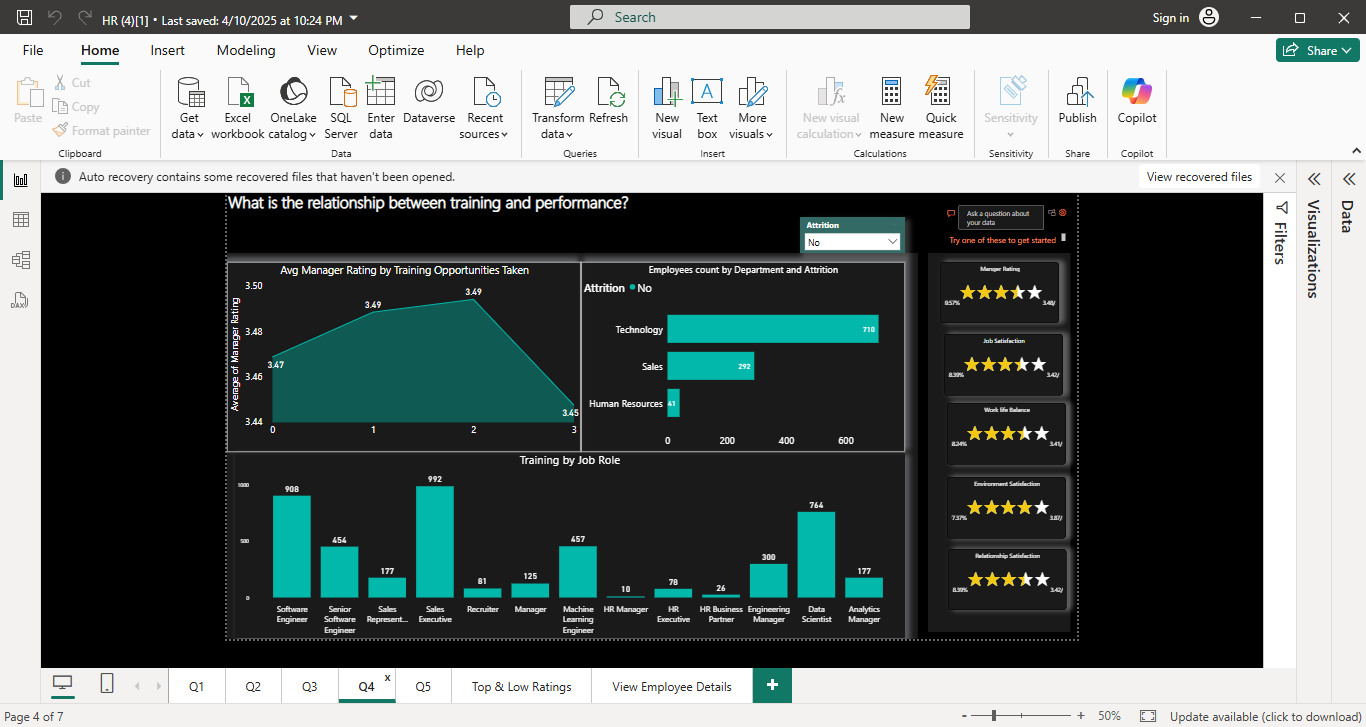

The page's visual inventory and layout, read from the dashboard file:
{"tool":"powerbi","page":{"name":"Q4","canvas":[1700,900],"ordinal":3},"visuals":[{"type":"textbox","box":[0,0,1356.7,68.3],"z":0},{"type":"shape","box":[0,128.3,1381.7,771.7],"z":1000},{"type":"shape","box":[1401.7,128.3,285,758.3],"z":2000},{"type":"qnaVisual","box":[1432.8,8.2,254.1,119.7],"z":3000},{"type":"ratingsvisual001","title":"Job Satisfaction","fields":{"measure":["Avg(HR Dataset (1).JobSatisfaction)"]},"box":[1433.3,290,238.3,123.3],"z":4000},{"type":"ratingsvisual001","title":"Work life Balance","fields":{"measure":["Avg(HR Dataset (1).WorkLifeBalance)"]},"box":[1440,428.3,238.3,123.3],"z":5000},{"type":"ratingsvisual001","title":"Manger Rating","fields":{"measure":["Avg(HR Dataset (1).ManagerRating)"]},"box":[1425,146.7,238.3,121.7],"z":6000},{"type":"ratingsvisual001","title":"Environment Satisfaction","fields":{"measure":["Avg(HR Dataset (1).EnvironmentSatisfaction)"]},"box":[1440,576.7,238.3,123.3],"z":7000},{"type":"ratingsvisual001","title":"Relationship Satisfaction","fields":{"measure":["Avg(HR Dataset (1).RelationshipSatisfaction)"]},"box":[1441.7,720,236.7,121.7],"z":8000},{"type":"slicer","fields":{"Values":["HR Dataset (1).Attrition"]},"box":[1146.7,56.7,210,71.7],"z":9000},{"type":"lineChart","title":"Avg Manager Rating by Training Opportunities Taken","fields":{"Category":["HR Dataset (1).TrainingOpportunitiesTaken"],"Y":["Avg(HR Dataset (1).ManagerRating)"]},"box":[0,146.7,708.3,380],"z":10000},{"type":"clusteredBarChart","fields":{"Category":["HR Dataset (1).Department"],"Series":["HR Dataset (1).Attrition"],"Y":["Dax.Employees count"]},"box":[708.3,146.7,648.3,380],"z":11000},{"type":"clusteredColumnChart","title":"Training by Job Role","fields":{"Category":["HR Dataset (1).JobRole"],"Y":["Sum(HR Dataset (1).TrainingOpportunitiesTaken)"]},"box":[16.7,526.7,1340,373.3],"z":13000}]}

Visuals, with their boxes on the page's 1700x900 design canvas (x1, y1, x2, y2). These are canvas units, not pixel positions in the 1366x727 screenshot, which may show the page scaled, cropped or inside an application window:
textbox: detection(0, 0, 1357, 68)
shape: detection(0, 128, 1382, 900)
shape: detection(1402, 128, 1687, 887)
qnaVisual: detection(1433, 8, 1687, 128)
"Job Satisfaction" ratingsvisual001: detection(1433, 290, 1672, 413)
"Work life Balance" ratingsvisual001: detection(1440, 428, 1678, 552)
"Manger Rating" ratingsvisual001: detection(1425, 147, 1663, 268)
"Environment Satisfaction" ratingsvisual001: detection(1440, 577, 1678, 700)
"Relationship Satisfaction" ratingsvisual001: detection(1442, 720, 1678, 842)
slicer - HR Dataset (1).Attrition: detection(1147, 57, 1357, 128)
"Avg Manager Rating by Training Opportunities Taken" lineChart: detection(0, 147, 708, 527)
clusteredBarChart - HR Dataset (1).Department x HR Dataset (1).Attrition: detection(708, 147, 1357, 527)
"Training by Job Role" clusteredColumnChart: detection(17, 527, 1357, 900)
